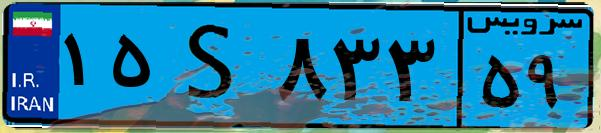1: (57, 26, 110, 100)
3: (385, 28, 445, 110), (330, 28, 385, 110)
5: (475, 38, 525, 113), (110, 28, 158, 98)
8: (270, 28, 330, 110)
9: (525, 38, 570, 115)
S: (158, 12, 270, 120)
